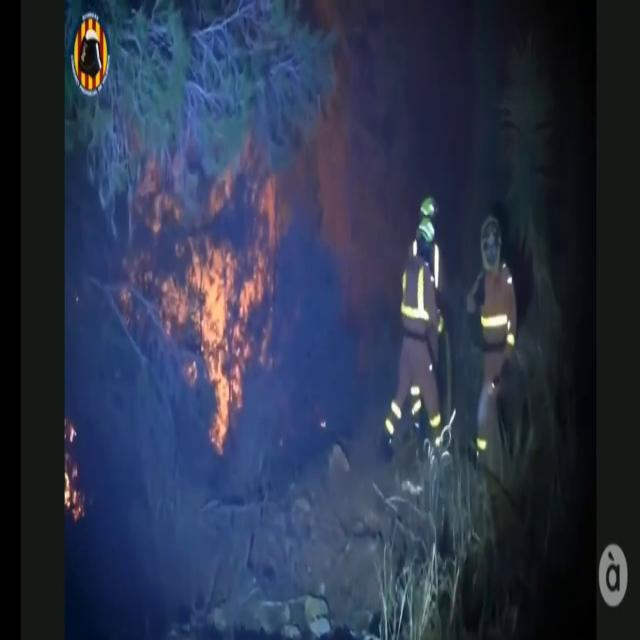Fire: (174, 200, 274, 450)
